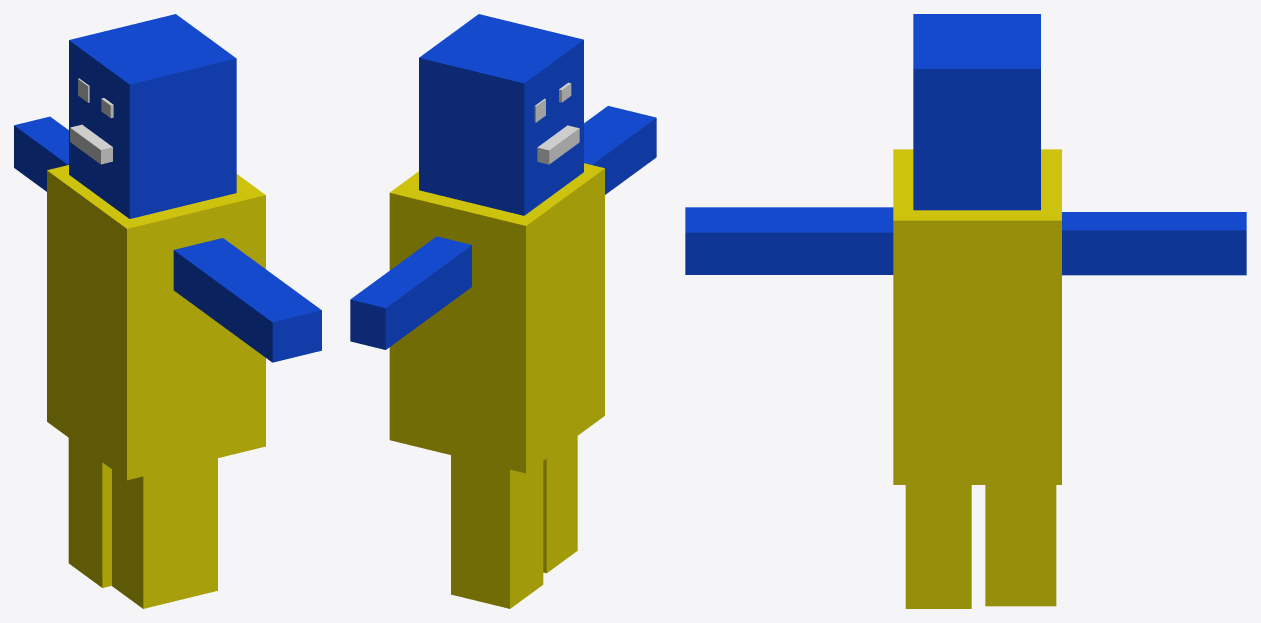
3 views of the same model, side by side, from view 1: azimuth 30°, elevation 25°; view 2: azimuth 150°, elevation 25°; view 3: azimuth 270°, elevation 25° (orthographic). The views are drawn at different scales.
Parts seen in each view (by area): view 1: Cube, Cube.006, Cube.005, Cube.002, Cube.003, Cube.001, Cube.010; view 2: Cube, Cube.006, Cube.003, Cube.001, Cube.002, Cube.005, Cube.010; view 3: Cube, Cube.006, Cube.002, Cube.001, Cube.003, Cube.005.
Boxes of the visible parts, bbox=[...] form: Cube: bbox=[47, 165, 265, 480]; Cube.006: bbox=[69, 14, 236, 218]; Cube.005: bbox=[112, 458, 217, 608]; Cube.002: bbox=[173, 238, 321, 362]; Cube.003: bbox=[68, 438, 111, 587]; Cube.001: bbox=[14, 116, 68, 191]; Cube.010: bbox=[70, 124, 112, 164]; Cube: bbox=[389, 163, 604, 473]; Cube.006: bbox=[419, 14, 583, 215]; Cube.003: bbox=[451, 455, 543, 608]; Cube.001: bbox=[350, 236, 471, 349]; Cube.002: bbox=[584, 106, 656, 194]; Cube.005: bbox=[543, 436, 577, 573]; Cube.010: bbox=[537, 125, 579, 164]; Cube: bbox=[893, 149, 1061, 484]; Cube.006: bbox=[913, 14, 1040, 210]; Cube.002: bbox=[685, 207, 893, 274]; Cube.001: bbox=[1062, 212, 1246, 275]; Cube.003: bbox=[985, 485, 1056, 606]; Cube.005: bbox=[905, 485, 971, 608].
Size of what is drawn, in the model's own units: 1.86 by 6.77 by 6.18.
